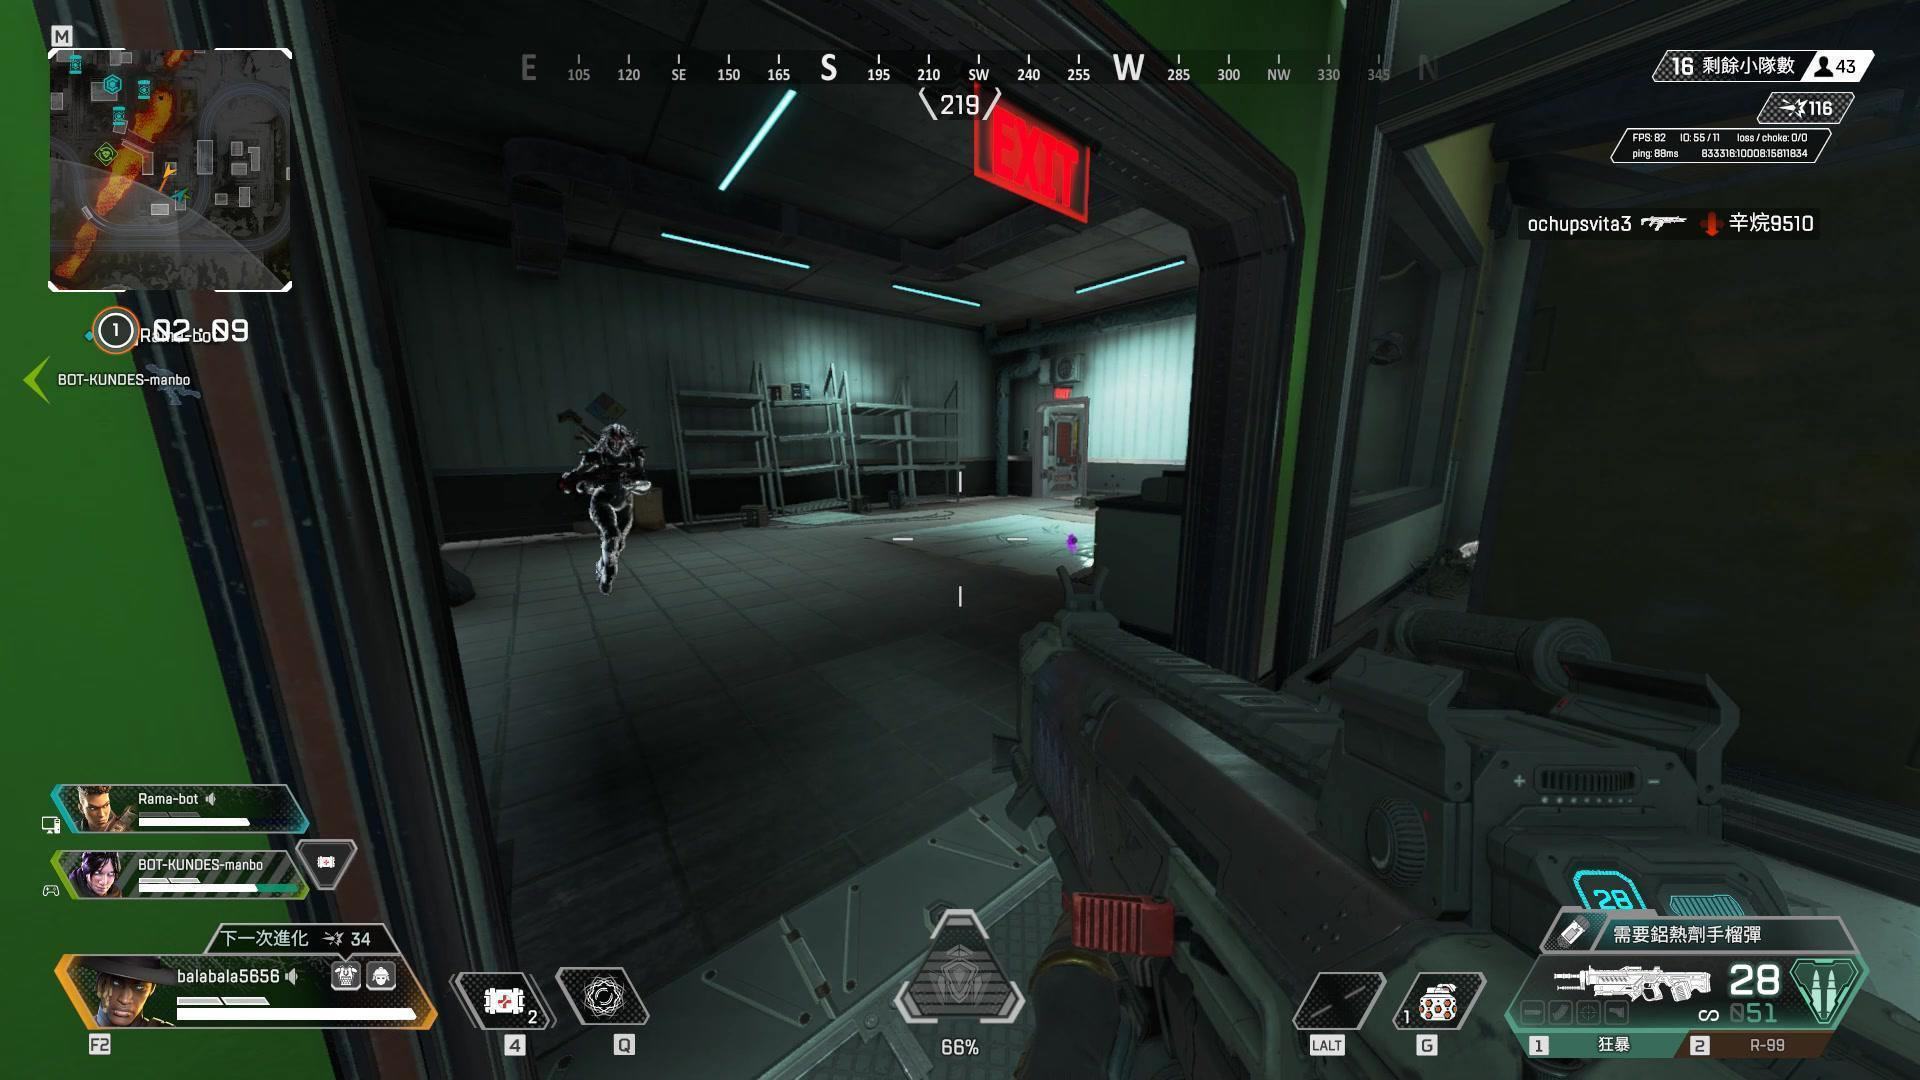avatar: (556, 422, 649, 598)
